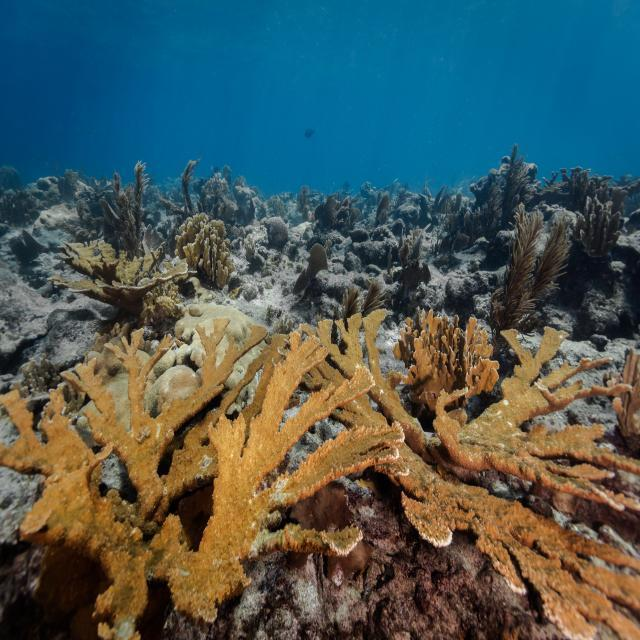Healthy Coral: (0, 320, 640, 635), (54, 226, 188, 322), (181, 211, 238, 290)
